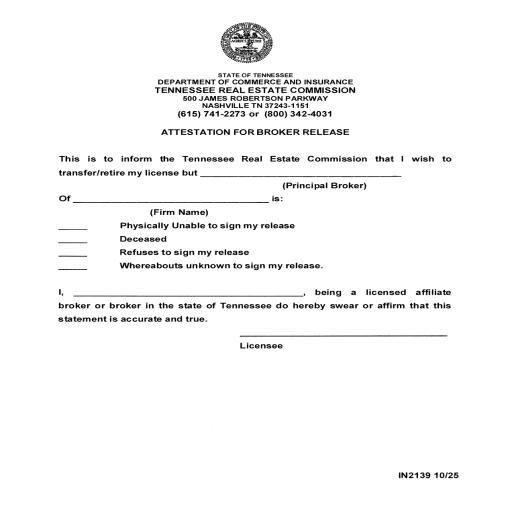free_text: (283, 179, 370, 193), (239, 339, 286, 357)
